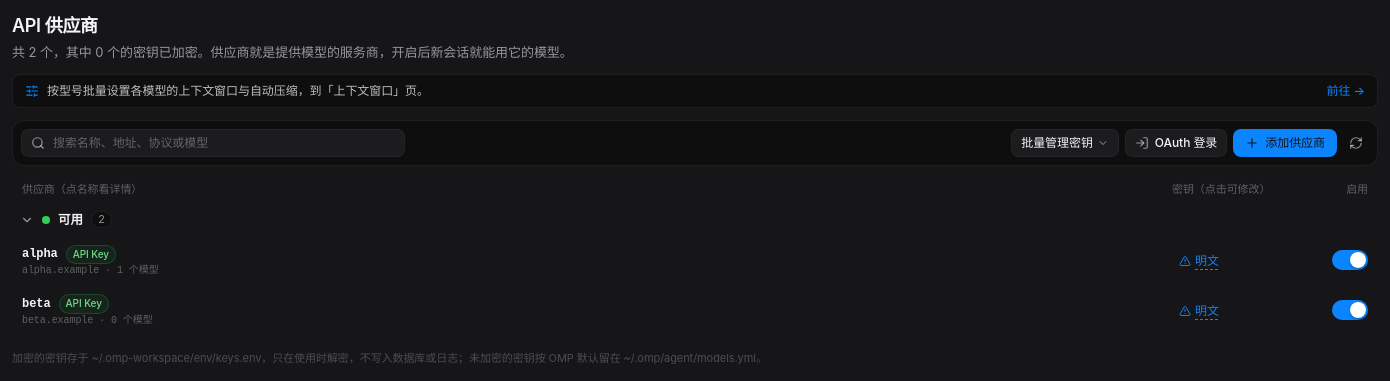
it: search › matches object-form model ids and protocol
Expected: the text "供应商（点名称看详情）" is shown, [22,182,142,196]
Type "zeta-model" into the field named "筛选供应商" at (213, 143), box [21,129,405,157]
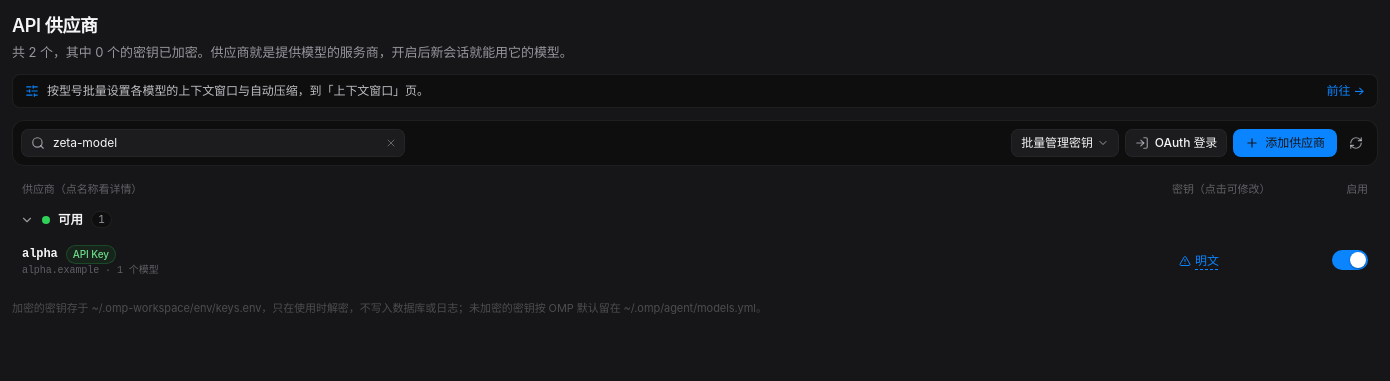
Expected: the text "alpha" is shown, [22,246,58,262]
Expected: the button "beta" is gone
Replace the text in the field named "筛选供应商" with "anthropic-messages" at (213, 143), box [21,129,405,157]
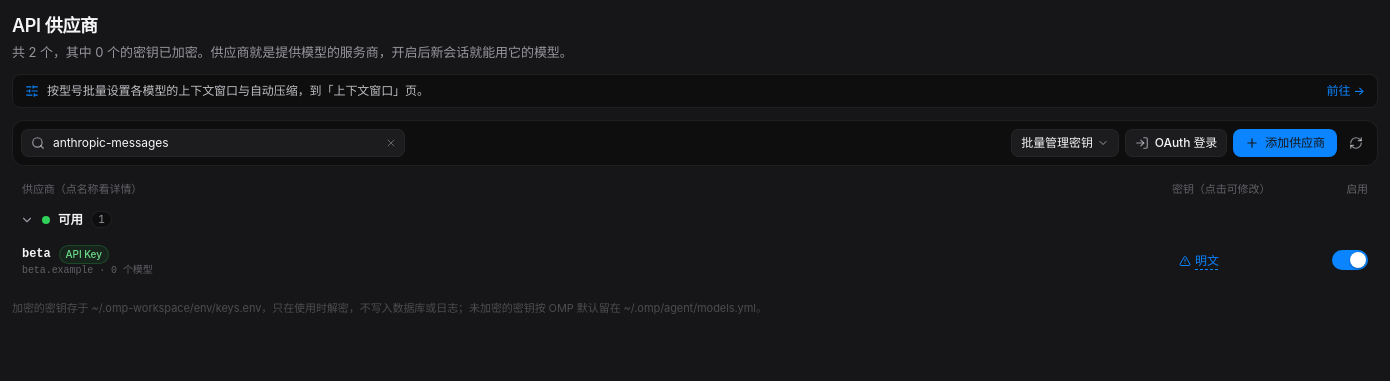
Expected: the text "beta" is shown, [22,246,50,262]
Expected: the button "alpha" is gone
